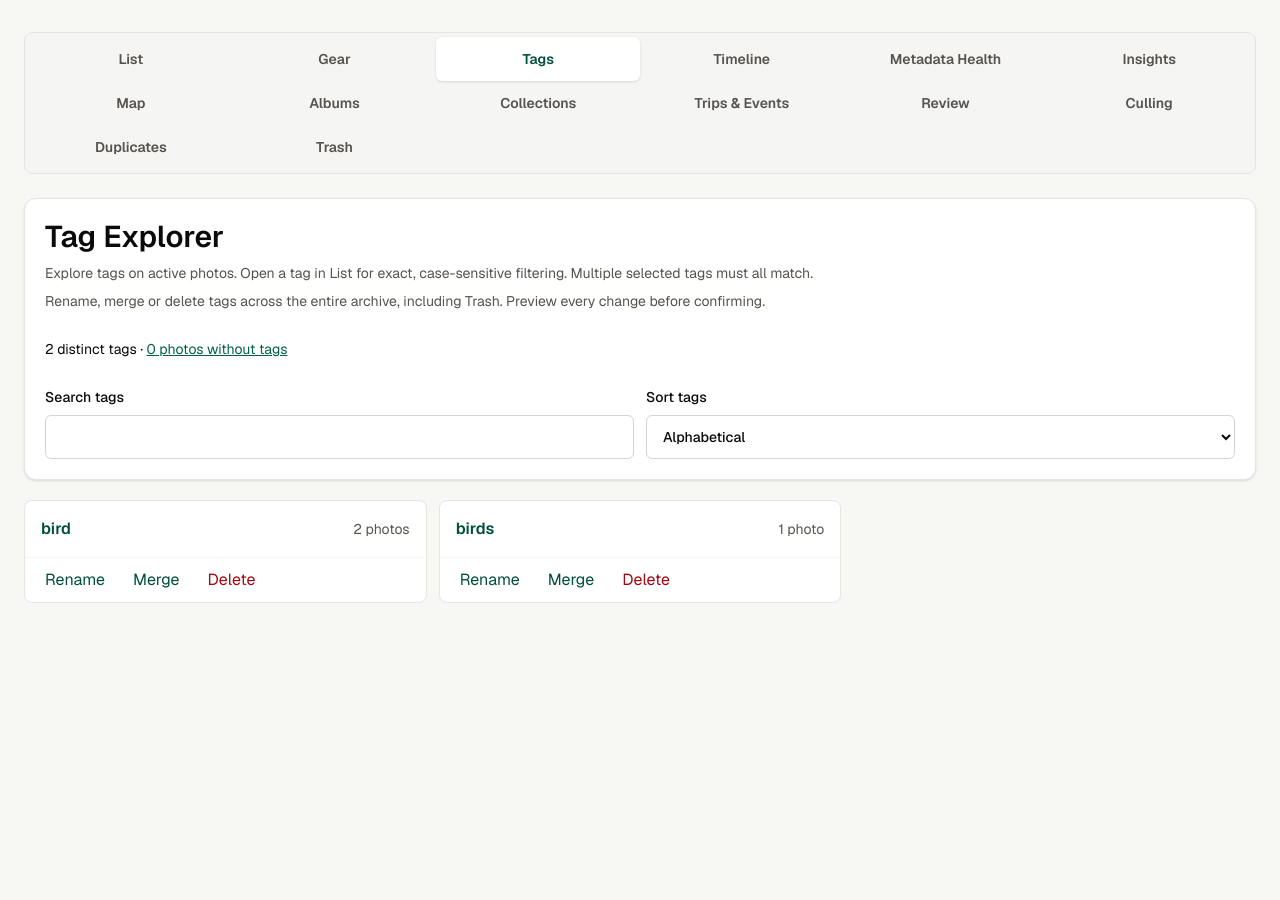
Test: stale preview disables apply until Retry Preview succeeds
Click the button with aria-label "Rename tag bird" at (75, 580), box [33,558,117,602]
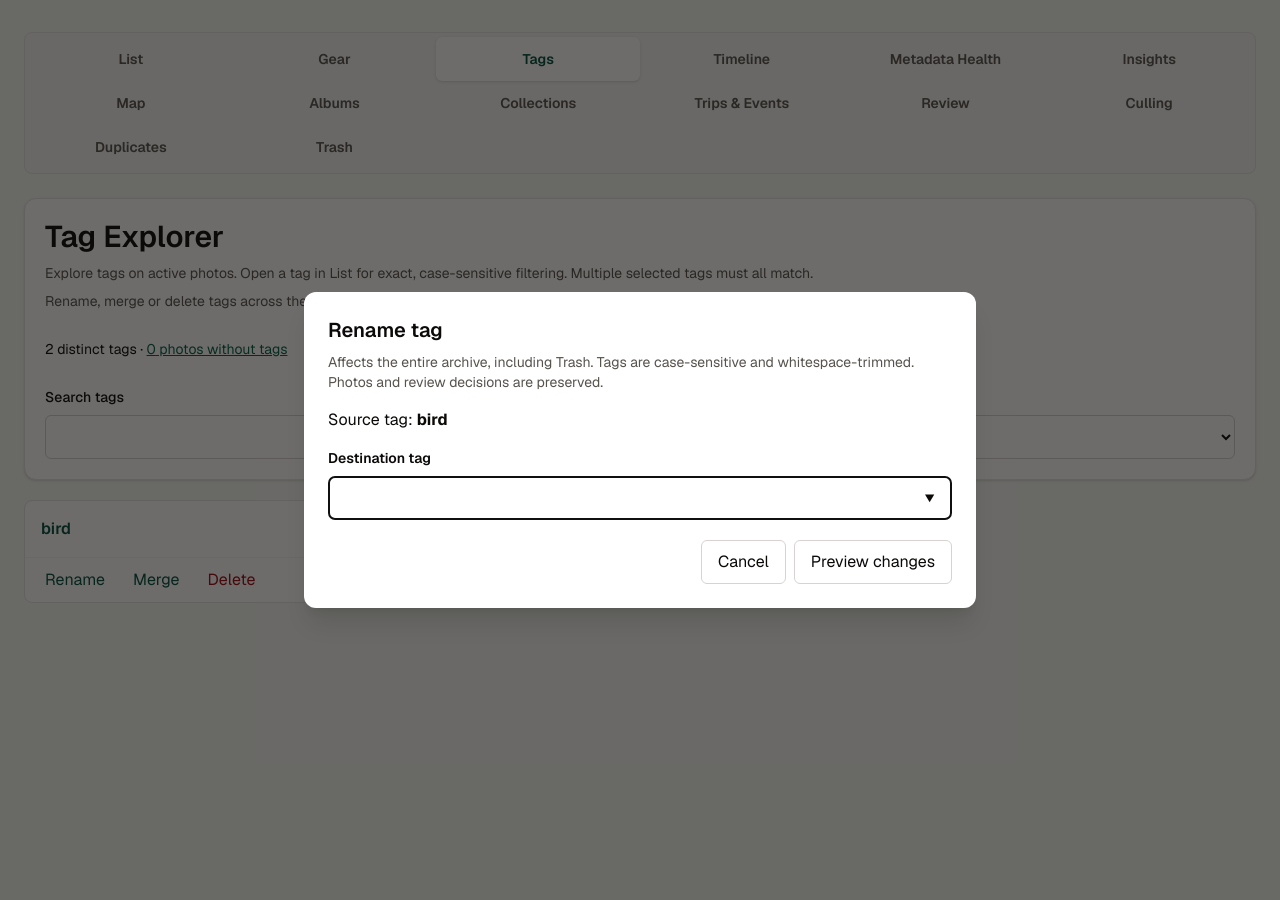
Type "birds" into the field labelled "Destination tag" at (640, 498), box [328,476,952,520]
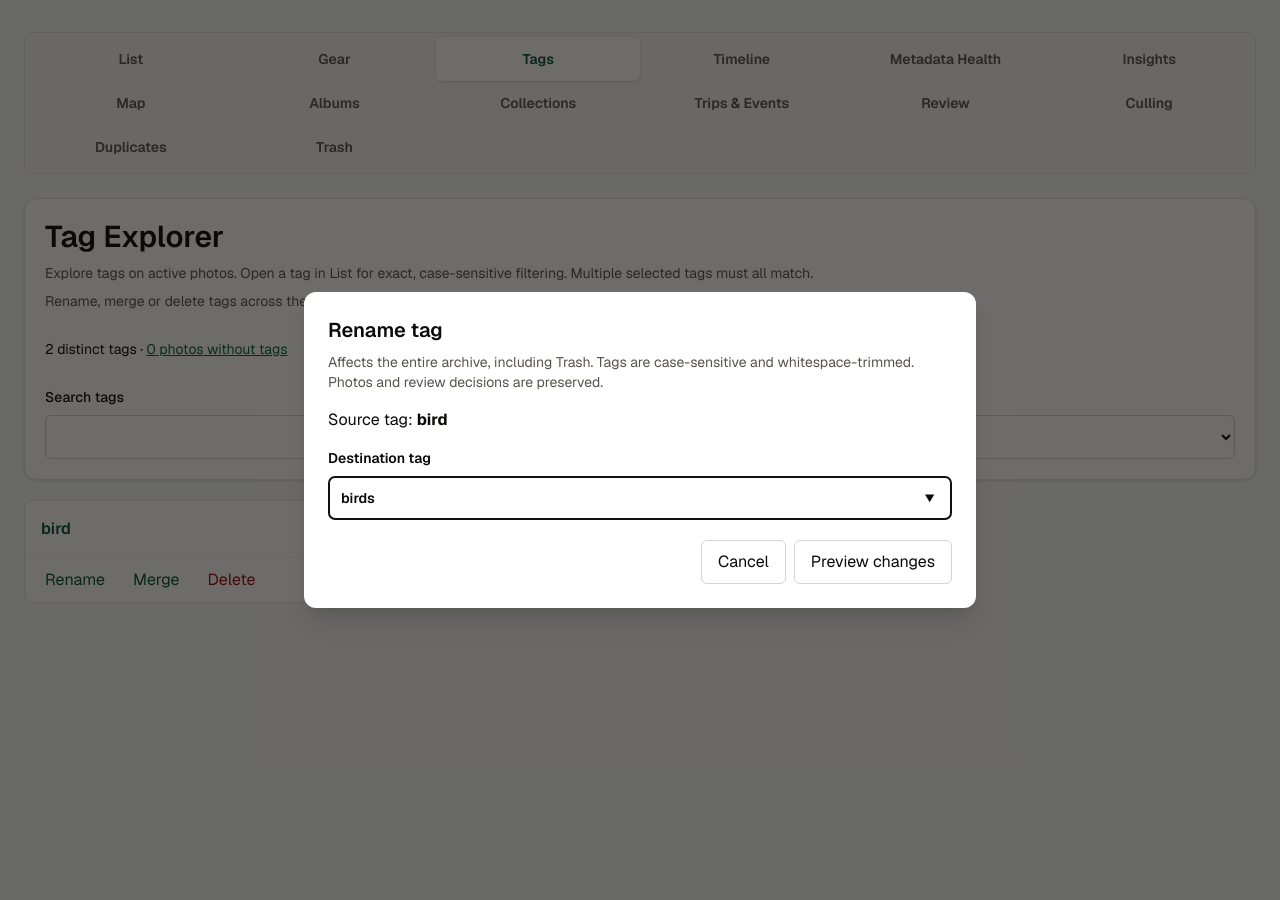
Click the button "Preview changes" at (873, 562), box [794,540,952,584]
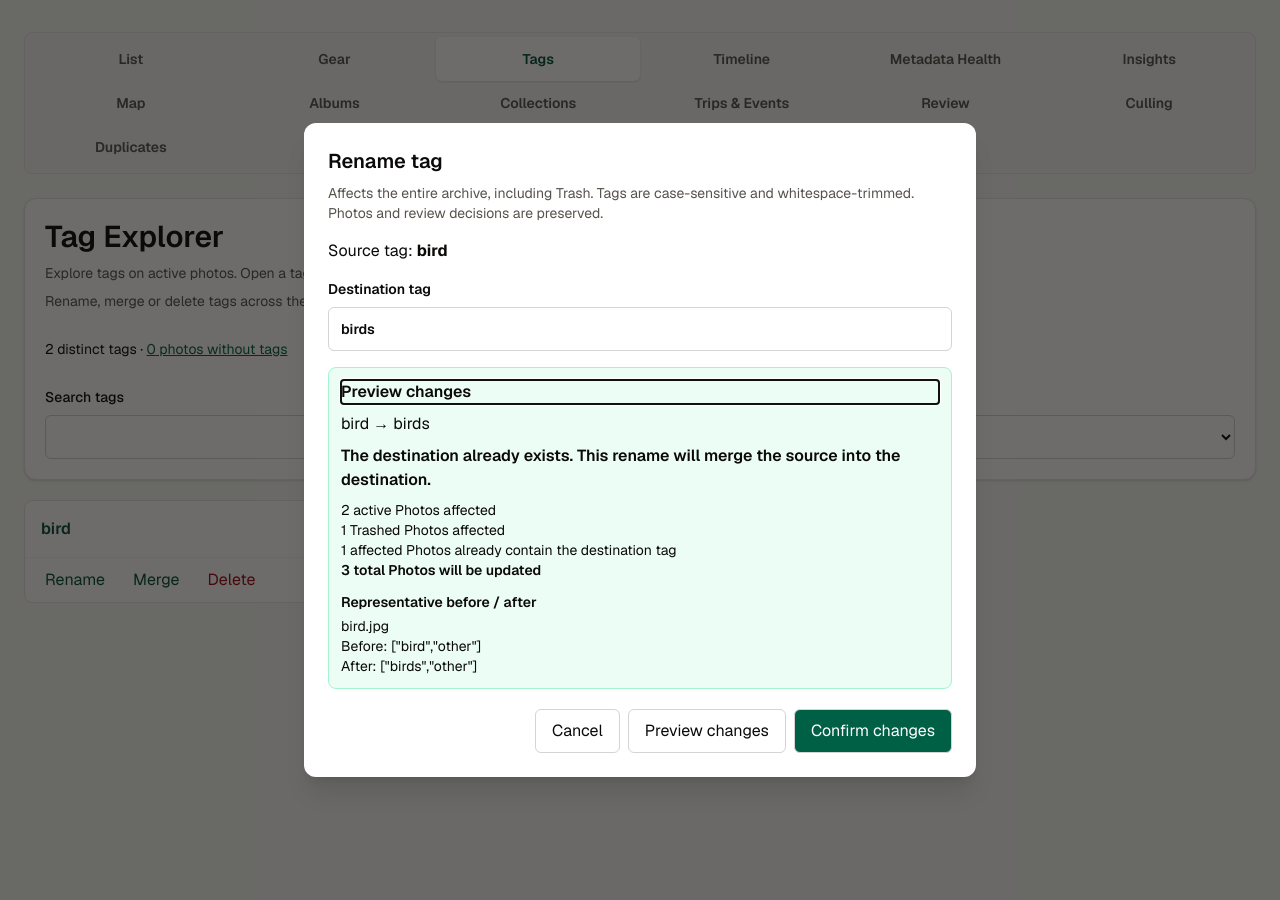
Check: the list item "3 total Photos will be updated" is shown, box [341,561,541,579]
Click the button "Confirm changes" at (873, 731), box [794,709,952,753]
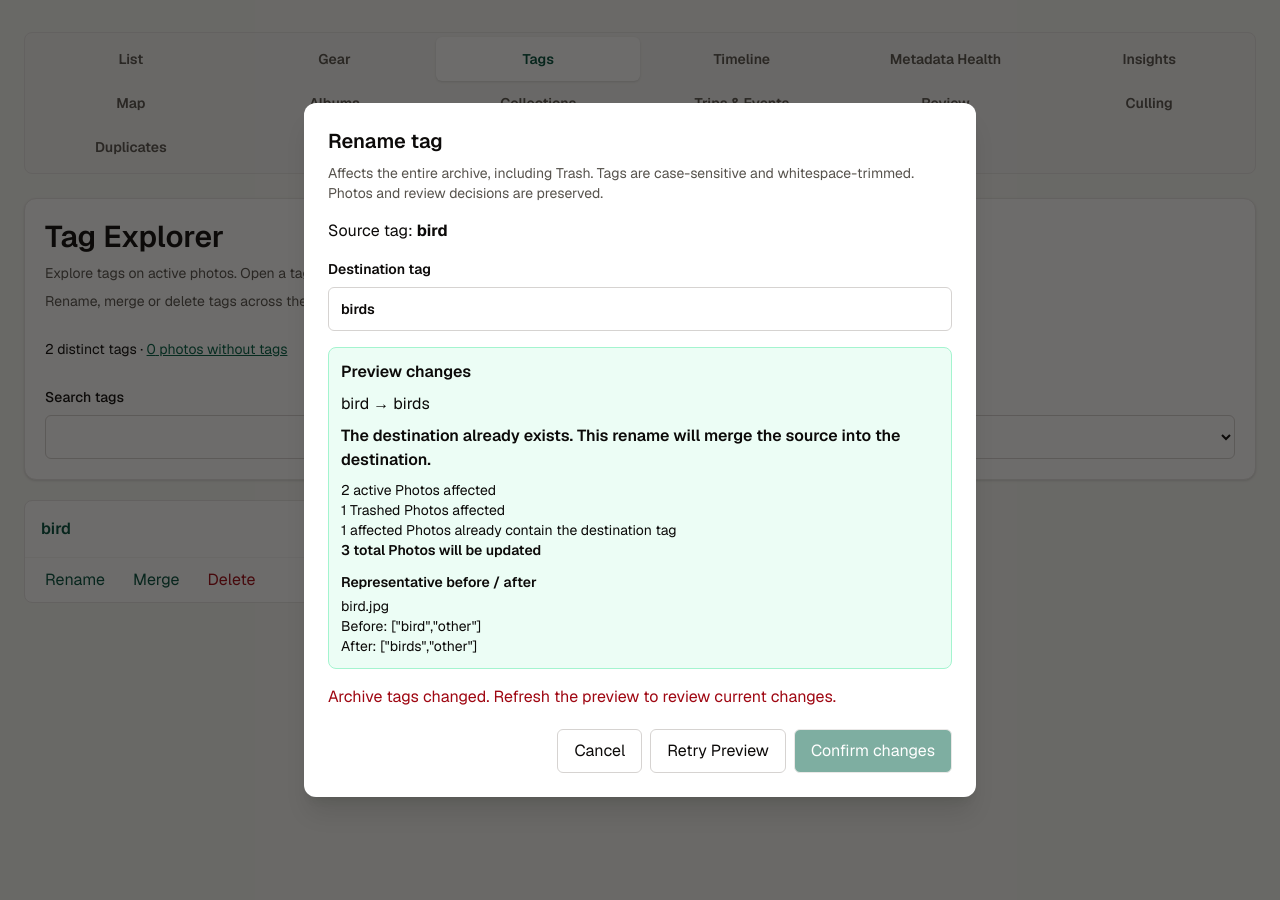
Check: the message shows "Refresh the preview", box [489,686,836,707]
Check: the button "Confirm changes" is disabled, box [794,729,952,773]
Click the button "Retry Preview" at (718, 751), box [650,729,786,773]
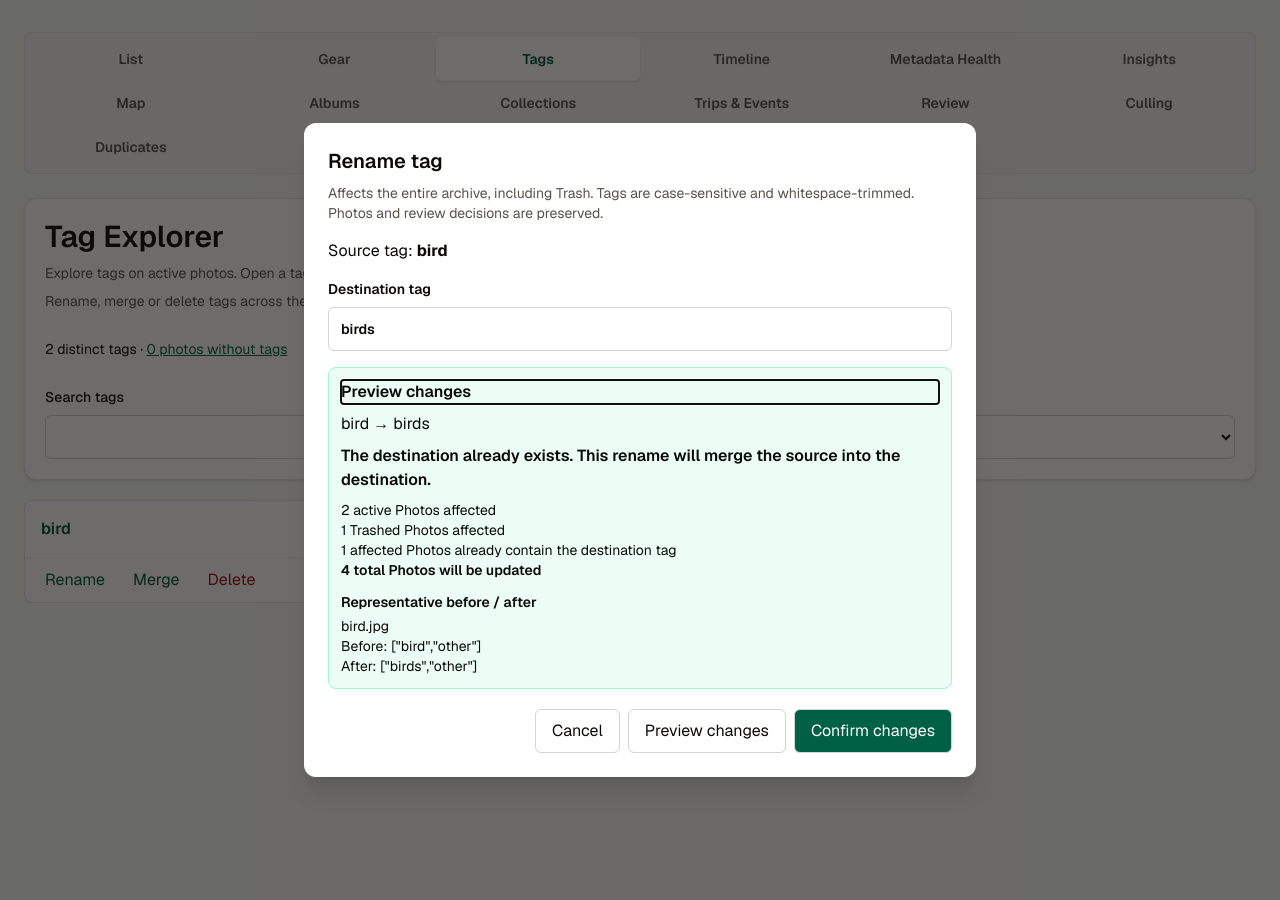
Check: the list item "4 total Photos will be updated" is shown, box [341,561,541,579]
Click the button "Confirm changes" at (873, 731), box [794,709,952,753]
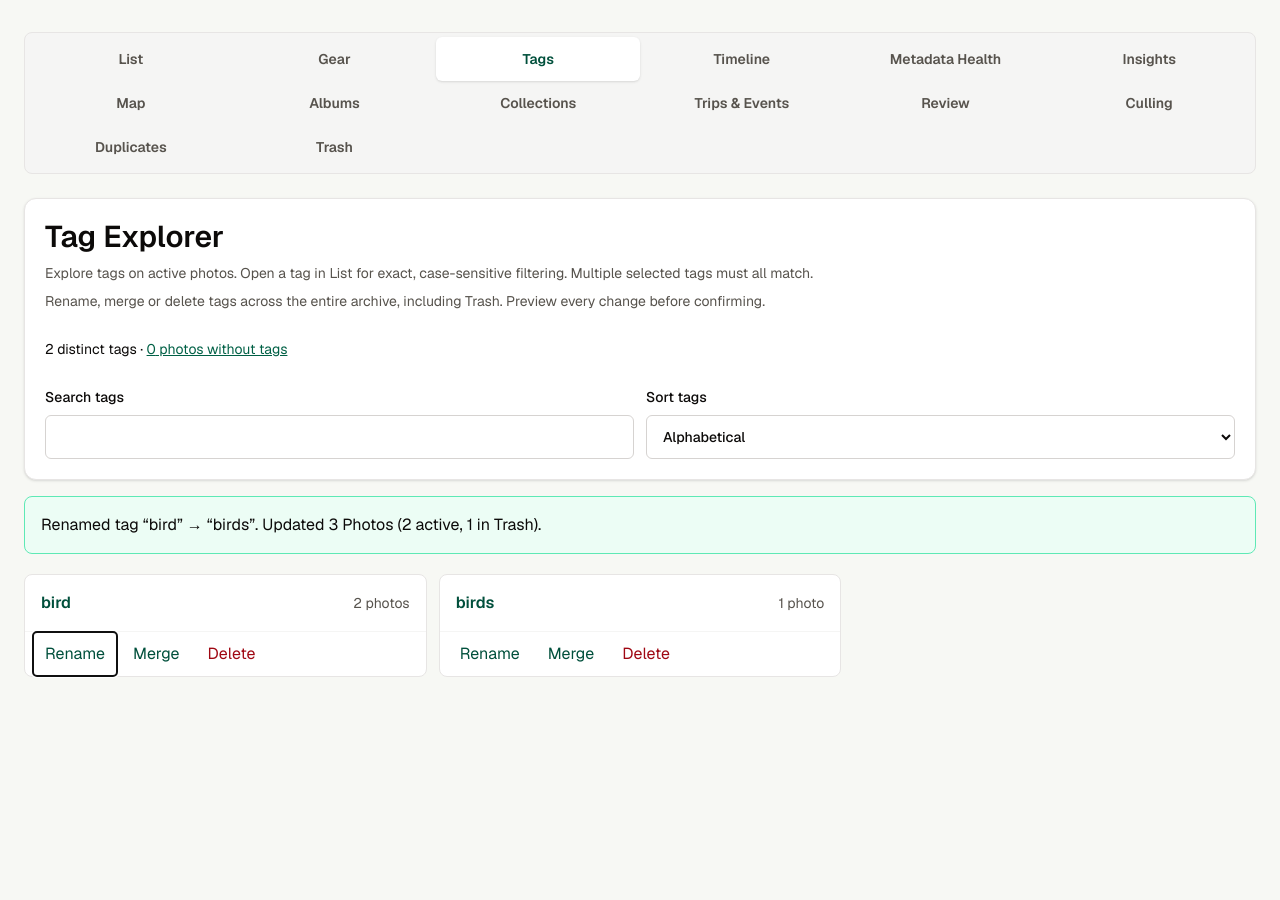
Check: the text "Renamed tag “bird” → “birds”. Updated 3 Photos (2 active, 1 in Trash)." is shown, box [24,496,1256,554]
